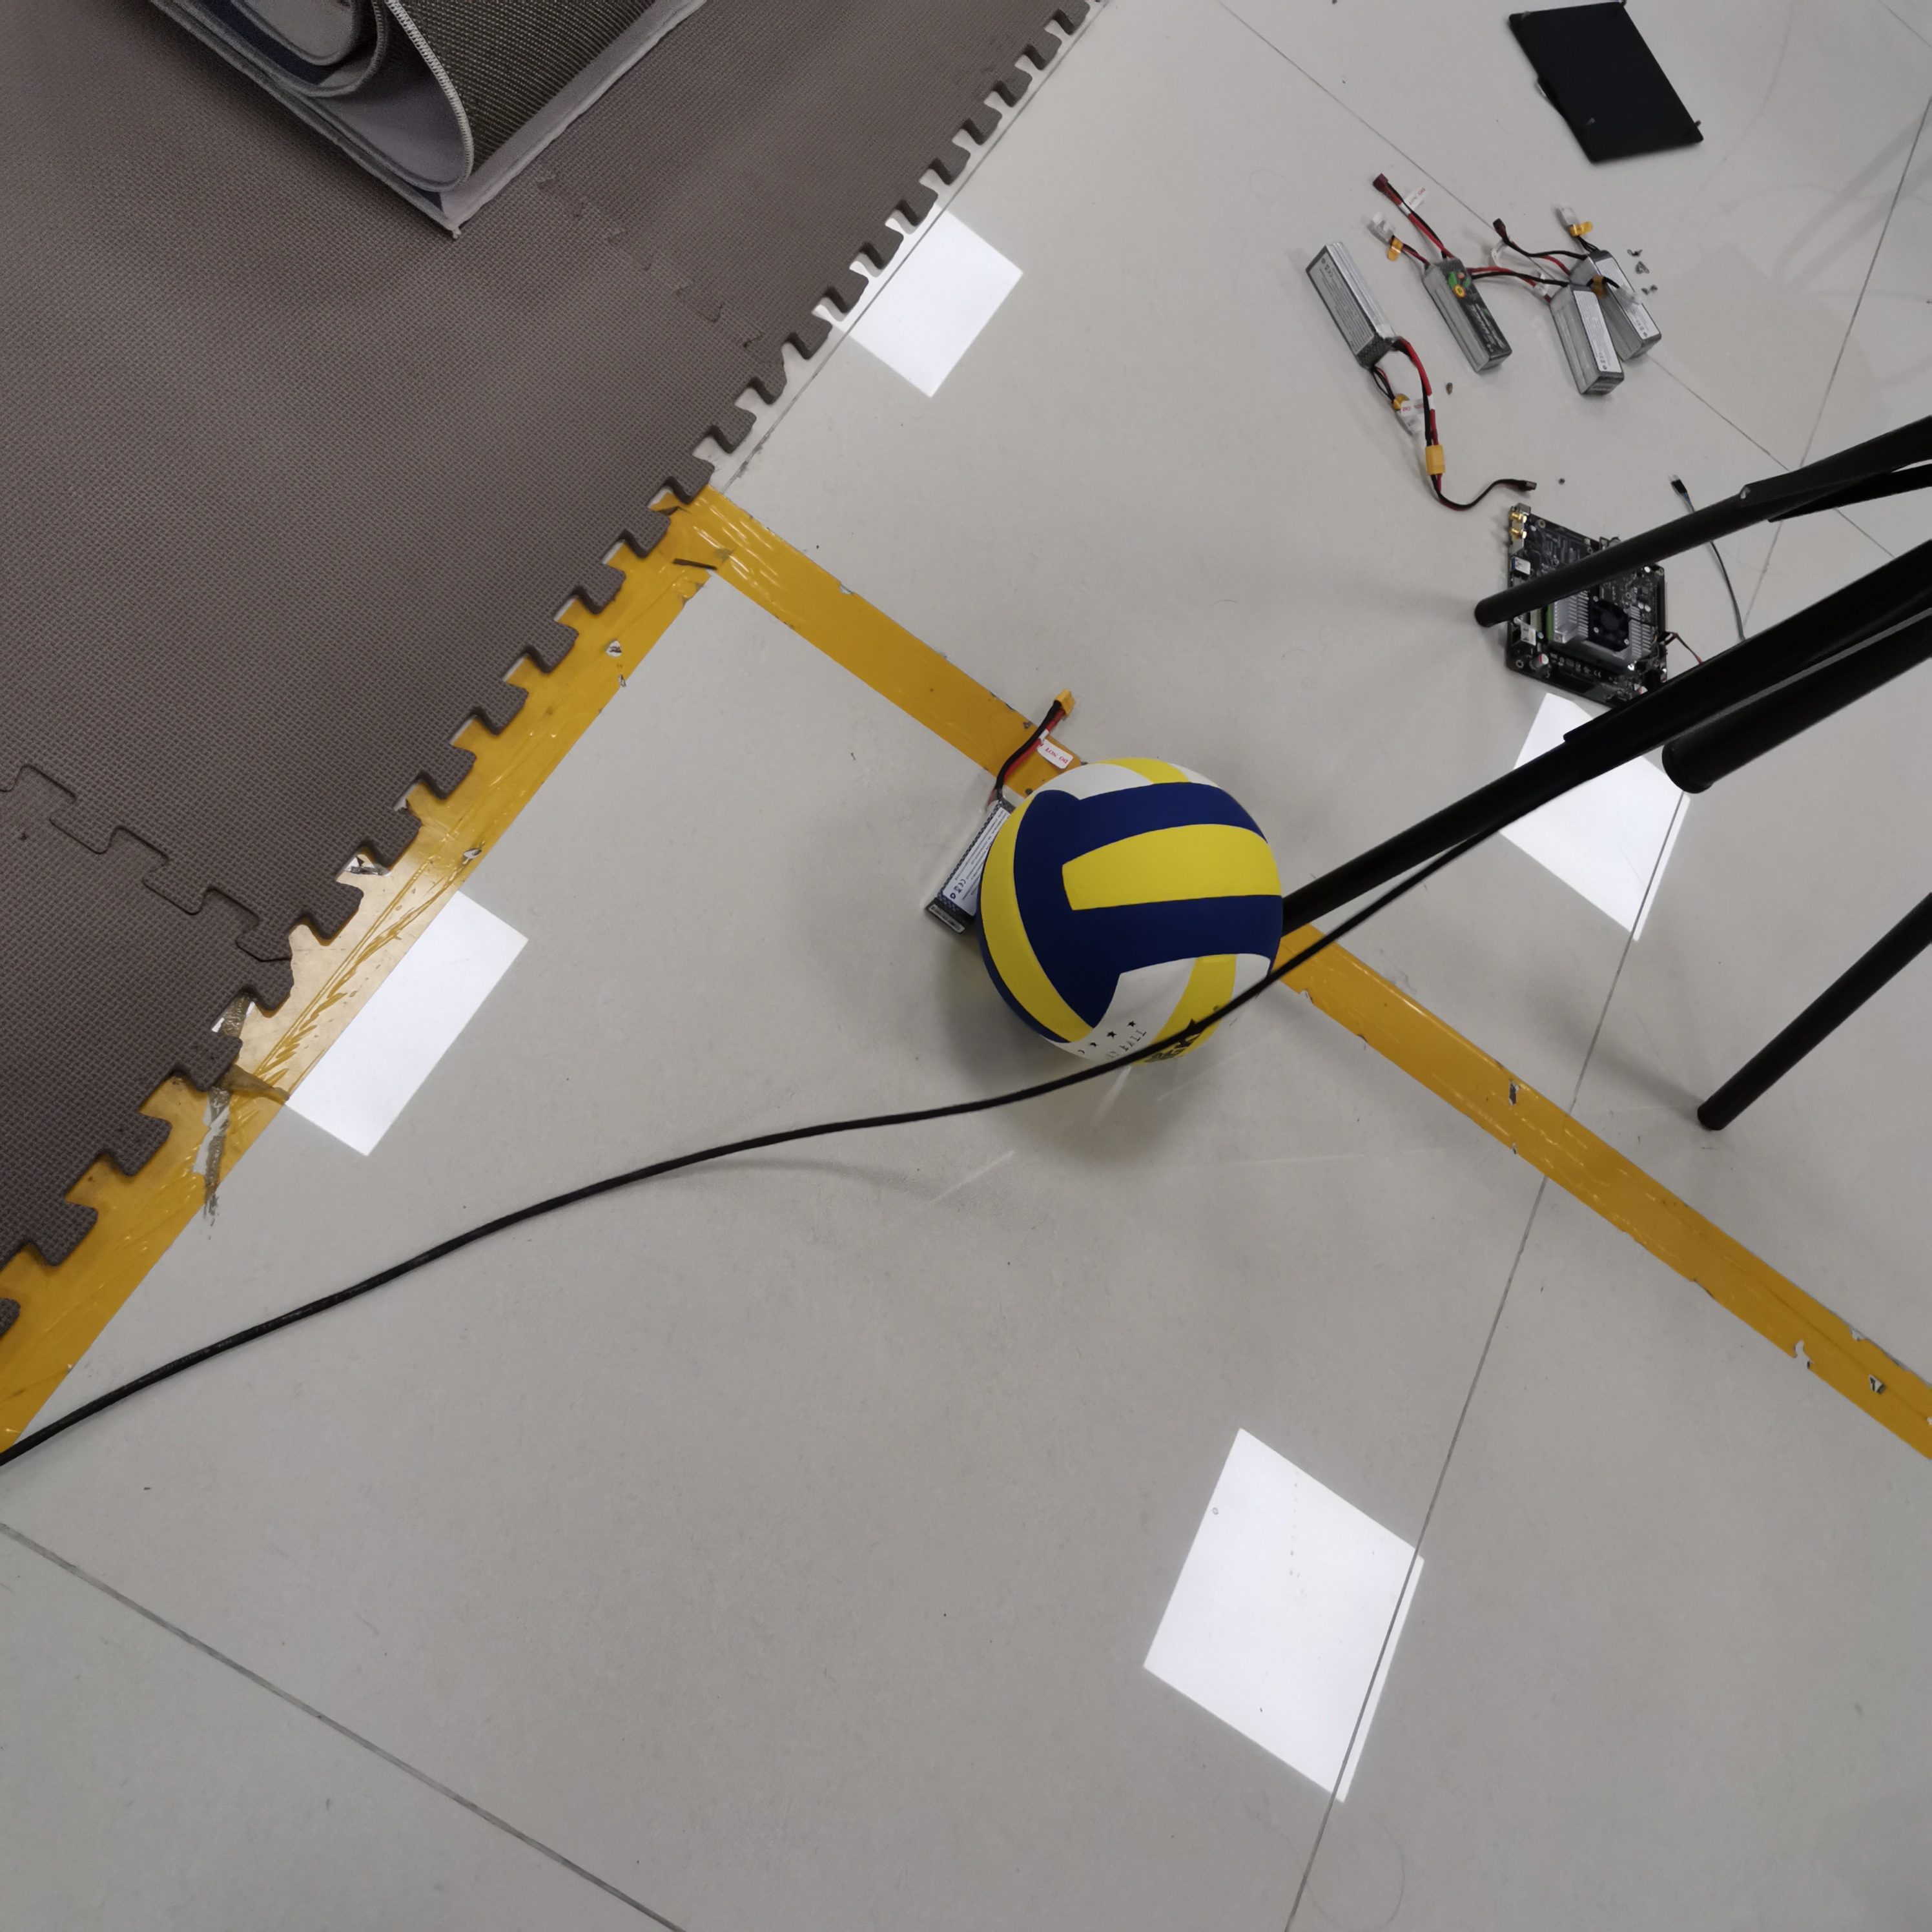volleyball: (978, 752, 1286, 1072)
